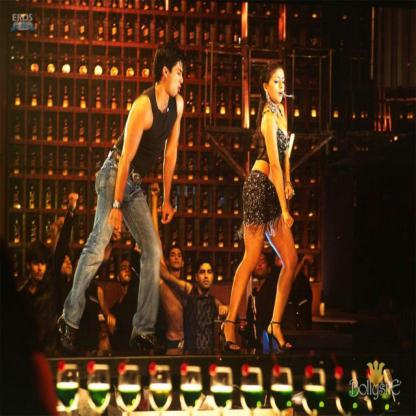face: (268, 70, 286, 103), (168, 62, 185, 96), (199, 264, 215, 290), (31, 257, 47, 281), (255, 254, 269, 278), (60, 255, 74, 276), (121, 263, 135, 283), (171, 250, 183, 269)
